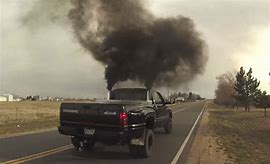smoke: (68, 1, 208, 87)
